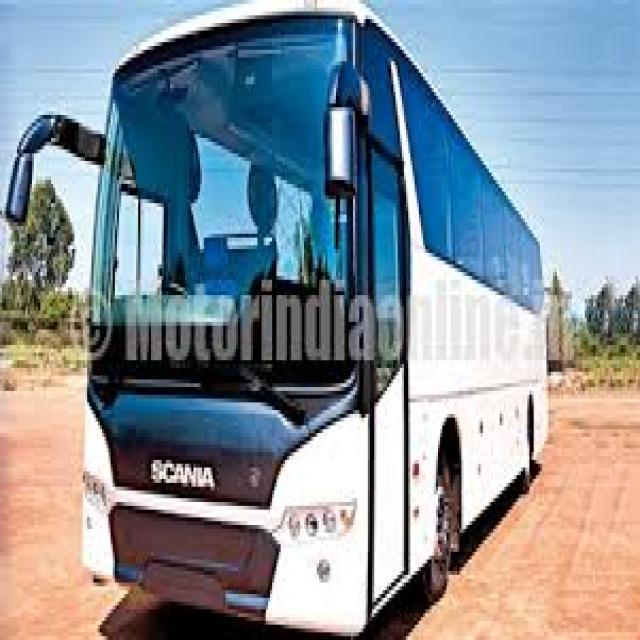bus_front: (9, 1, 566, 612)
